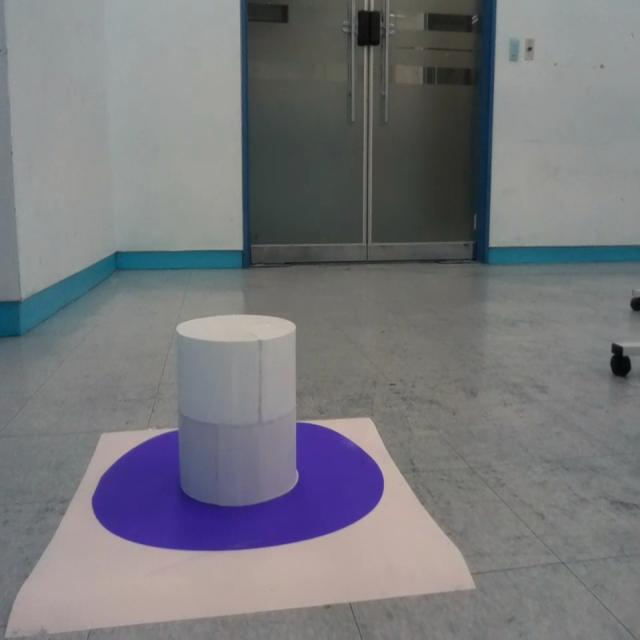cylinder: (174, 313, 299, 505)
